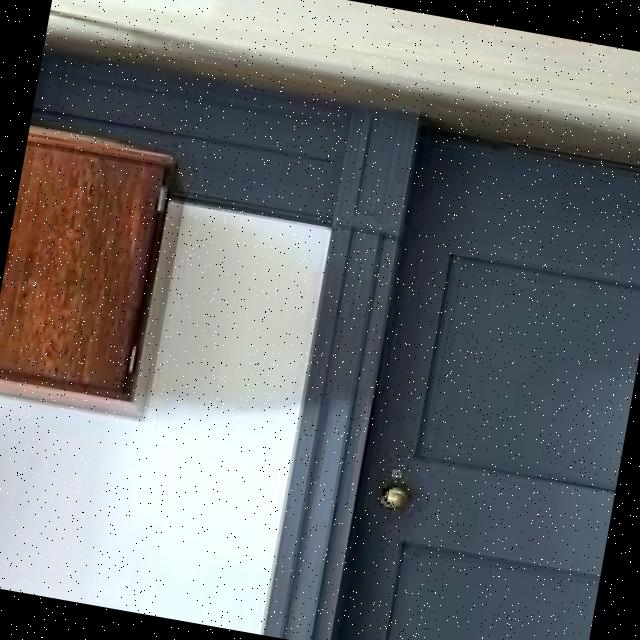Door: (329, 117, 640, 640)
